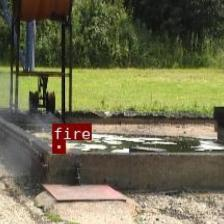fire: (52, 139, 64, 153)
